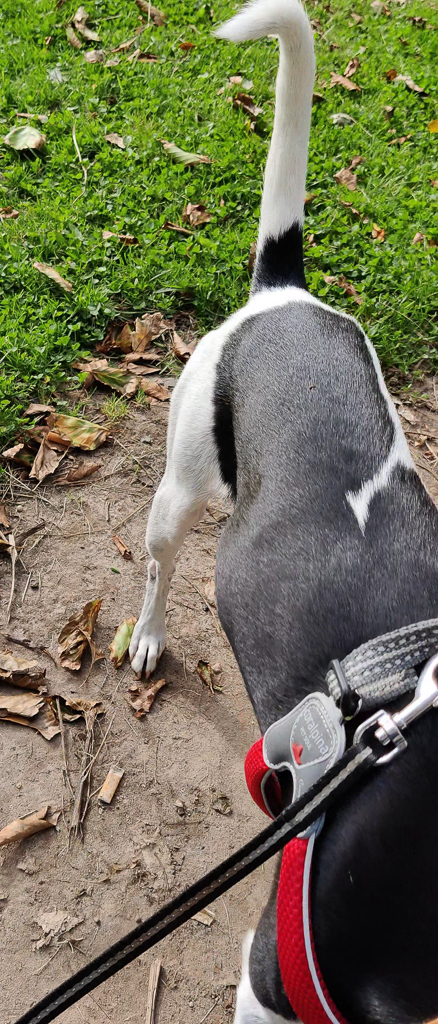Dog: (119, 0, 438, 1024)
